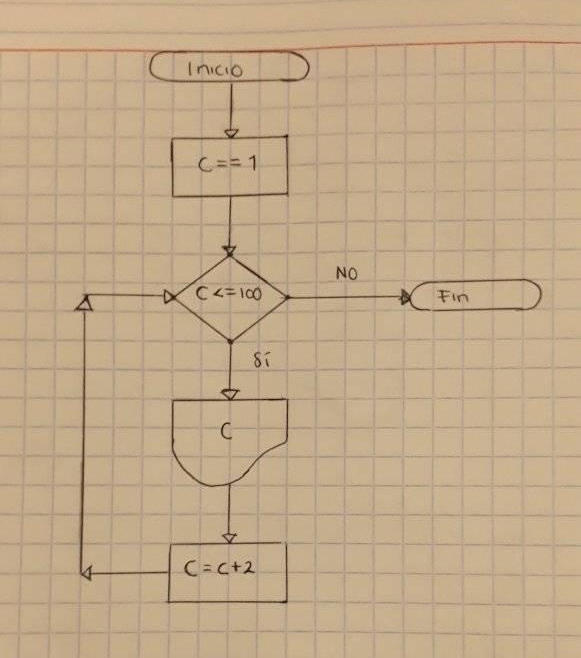arrow_line_down: (219, 340, 241, 402), (220, 482, 239, 546), (220, 197, 239, 258), (221, 80, 239, 137)
arrow_line_left: (79, 561, 170, 583)
arrow_line_right: (287, 289, 410, 306), (81, 288, 174, 304)
arrow_line_up: (71, 293, 94, 581)
decision: (174, 254, 291, 345)
print: (165, 395, 292, 486)
process: (165, 537, 293, 608), (165, 132, 294, 202)
start_end: (146, 46, 313, 88), (409, 278, 546, 316)
